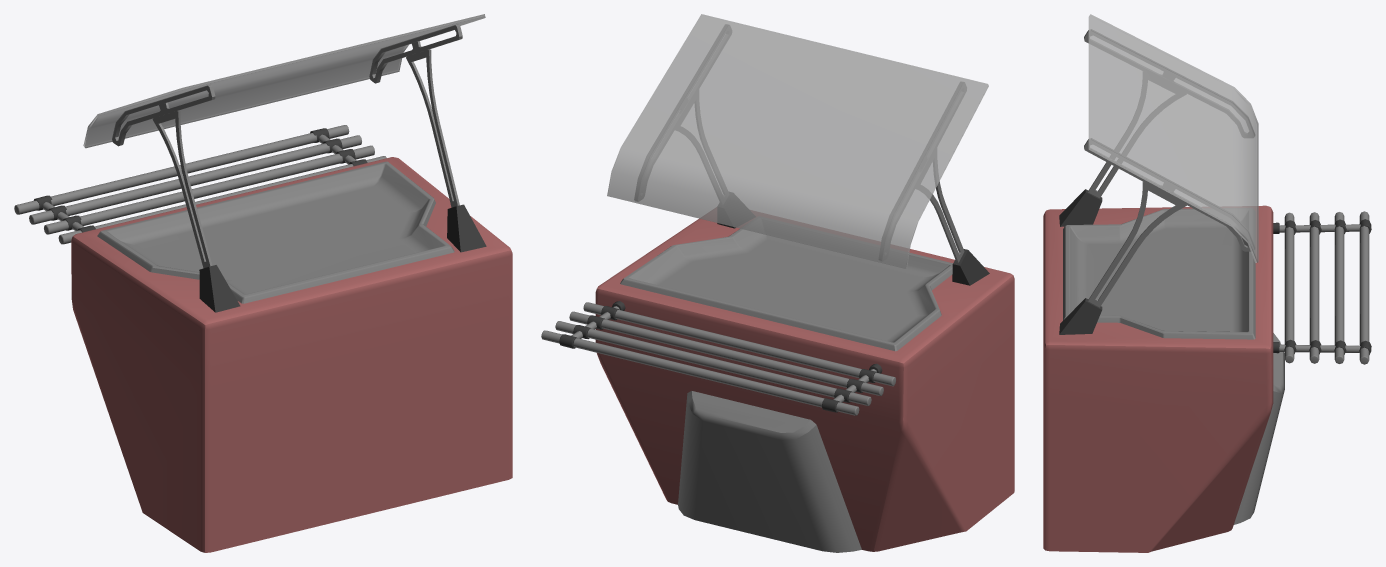
Rendered from SM_Comptoir_Empty.fbx.
3 renders of one model, left to right at view 1: azimuth 30°, elevation 25°; view 2: azimuth 150°, elevation 25°; view 3: azimuth 270°, elevation 25°, orthographic. The views are drawn at different scales.
Visible parts, largest first — view 1: SM_Comptoir_01; view 2: SM_Comptoir_01; view 3: SM_Comptoir_01.
Part boxes in pixels (left/top/right/bottom): SM_Comptoir_01: left=14, top=14, right=512, bottom=552; SM_Comptoir_01: left=541, top=14, right=1014, bottom=552; SM_Comptoir_01: left=1043, top=14, right=1371, bottom=552.
Bounding box in the file's own units: 123 × 158 × 117.
